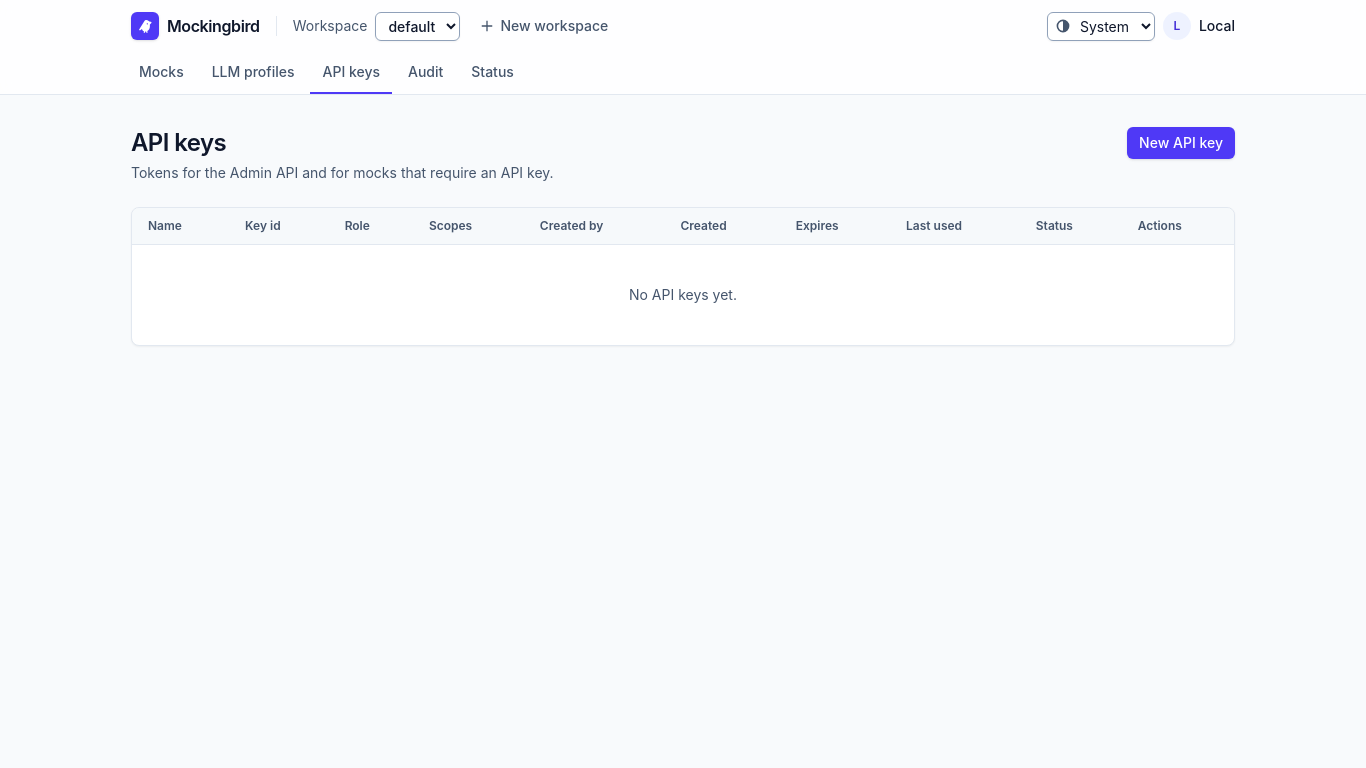
api keys › sysadmin can create a sysadmin key with any role
Click the button "New API key" at (1181, 143), box top-left (1127, 127), bottom-right (1235, 159)
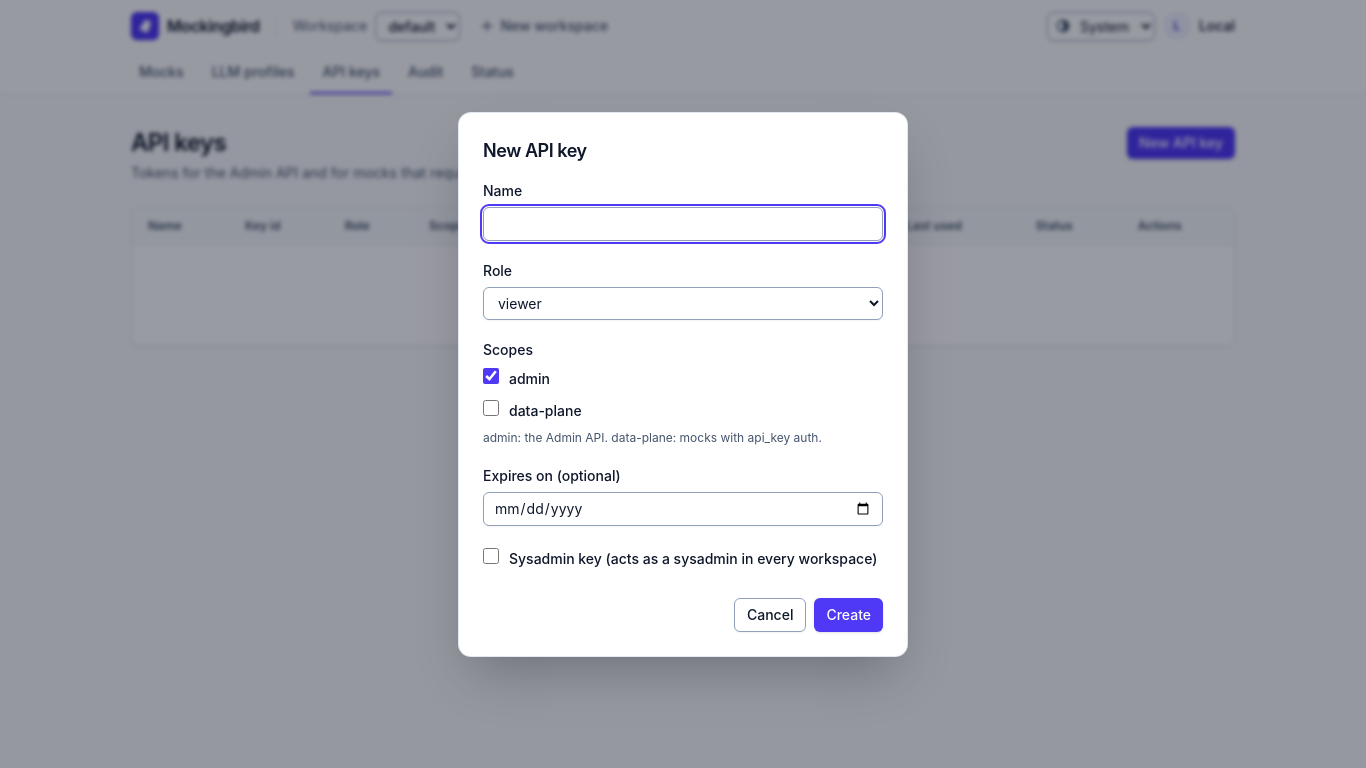
Check: the checkbox labelled "Sysadmin key (acts as a sysadmin in every workspace)" is shown, box top-left (483, 548), bottom-right (499, 564)
